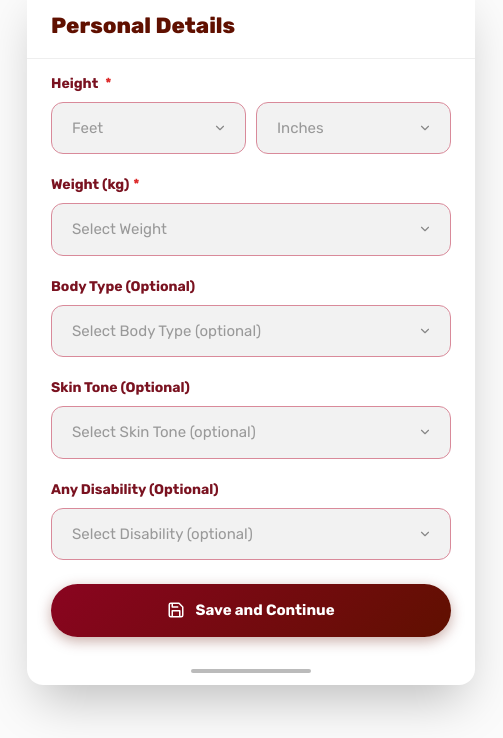
Scenario: PersonalDetails – Step 4 form › shows validation error when Diet is not selected on Save
The image size is (503, 738).
(page scrolled)
What coordinates should you click on to do the following:
click the button "Save and Continue"
I would click on:
 (251, 610)
Its box is [51,584,451,636].
(page scrolled)
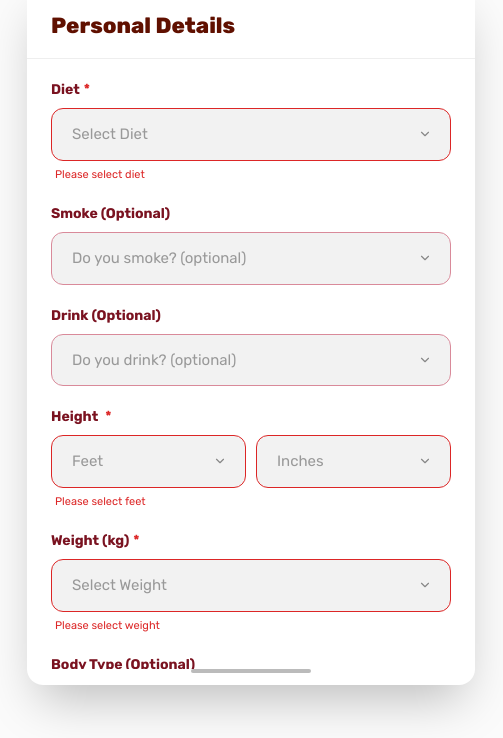
Check: the text "Please select diet" is shown, box [55,168,145,180]
